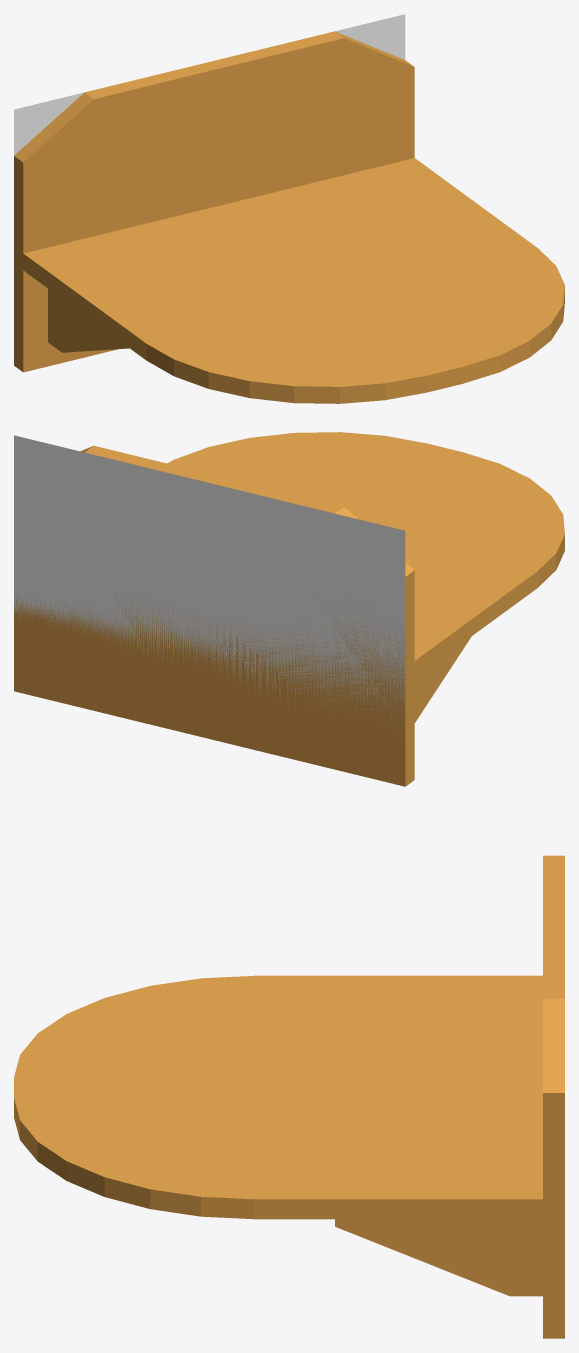
The model's file is 半圆跳板.glb.
The picture shows the model from 3 angles, top to bottom: view 1: azimuth 30°, elevation 25°; view 2: azimuth 150°, elevation 25°; view 3: azimuth 270°, elevation 25°; orthographic projection. The views are drawn at different scales.
Parts seen in each view (by area): view 1: 平面.016, 平面.017, 半圆跳板, 平面.018; view 2: 半圆跳板, 平面.017, 平面.016, 平面.018; view 3: 平面.016, 平面.017, 平面.018.
Boxes of the visible parts, x1,y1,x2,y2 form: 平面.016: (23, 158, 564, 403); 平面.017: (14, 31, 414, 372); 半圆跳板: (14, 14, 405, 155); 平面.018: (48, 289, 128, 352); 半圆跳板: (14, 435, 405, 730); 平面.017: (14, 445, 414, 786); 平面.016: (167, 432, 564, 677); 平面.018: (414, 637, 470, 722); 平面.016: (14, 975, 542, 1219); 平面.017: (543, 855, 564, 1338); 平面.018: (335, 1219, 542, 1296).
Bounding box in the file's own units: 0.4 × 0.25 × 0.4166.
